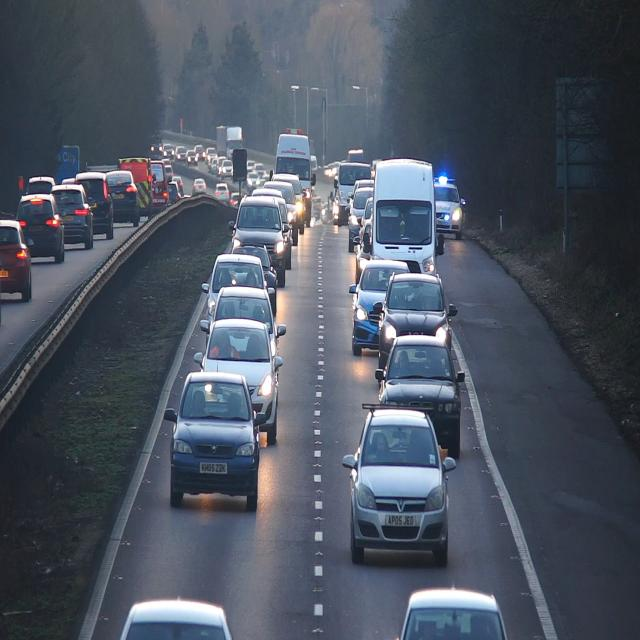emergency lights: (435, 168, 460, 188), (444, 211, 452, 225)
